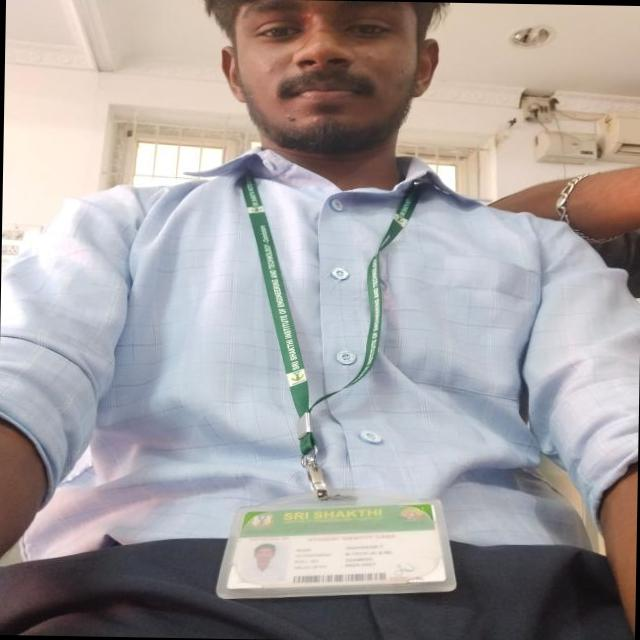id_card: (202, 179, 458, 605)
